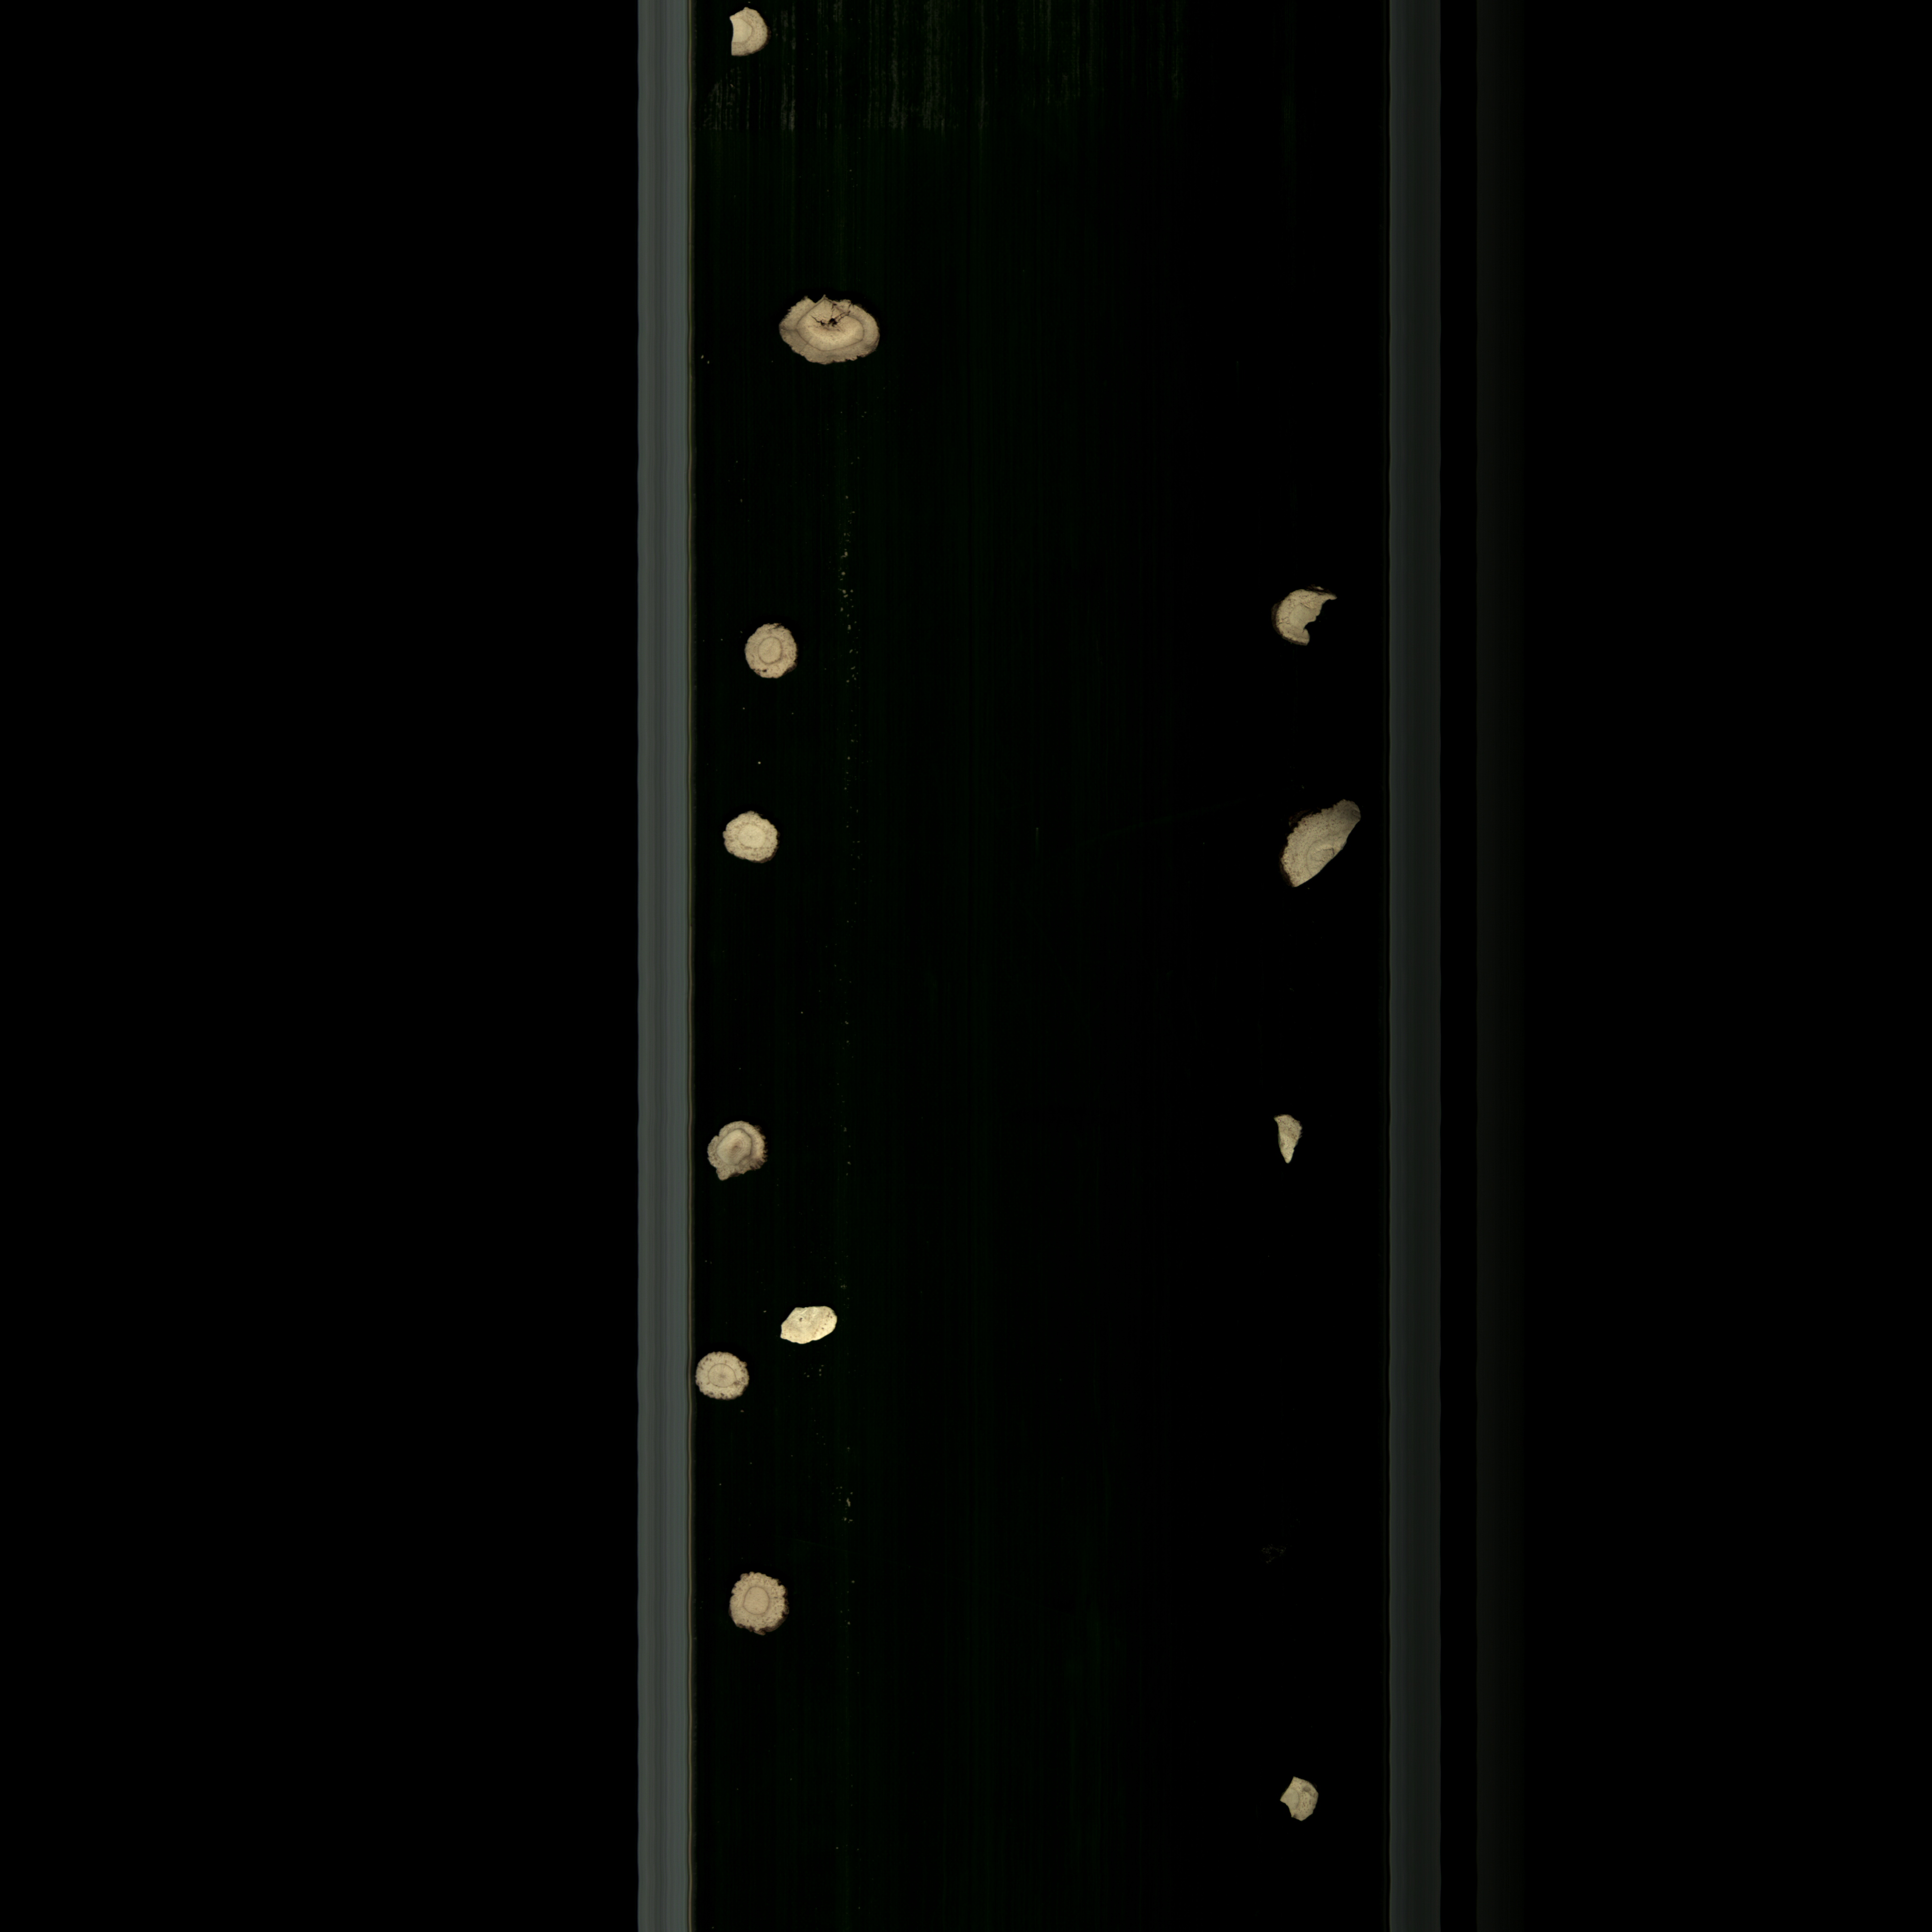debris: (1272, 791, 1371, 906), (1261, 566, 1346, 662), (745, 1293, 865, 1355)
distortion: (704, 1102, 777, 1198), (717, 1560, 798, 1645)
dreg: (1256, 1752, 1341, 1842), (1256, 1097, 1323, 1180), (717, 5, 780, 67)
moldy: (764, 285, 895, 380), (697, 1341, 761, 1415)
